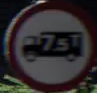Heavy Vehicles: (7, 6, 89, 76)
